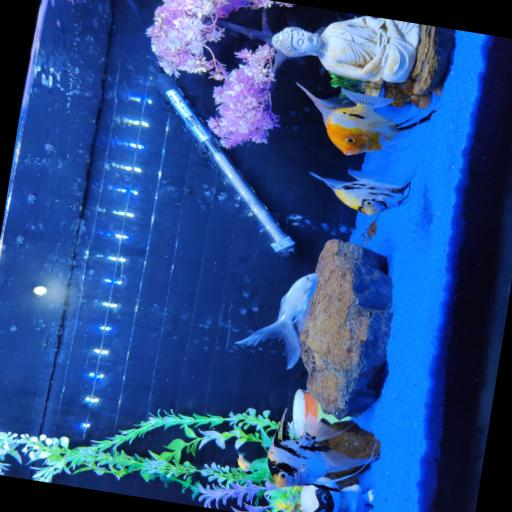Fish: (297, 83, 436, 154), (268, 410, 377, 490), (236, 273, 317, 368), (310, 169, 410, 215), (238, 451, 250, 471)
